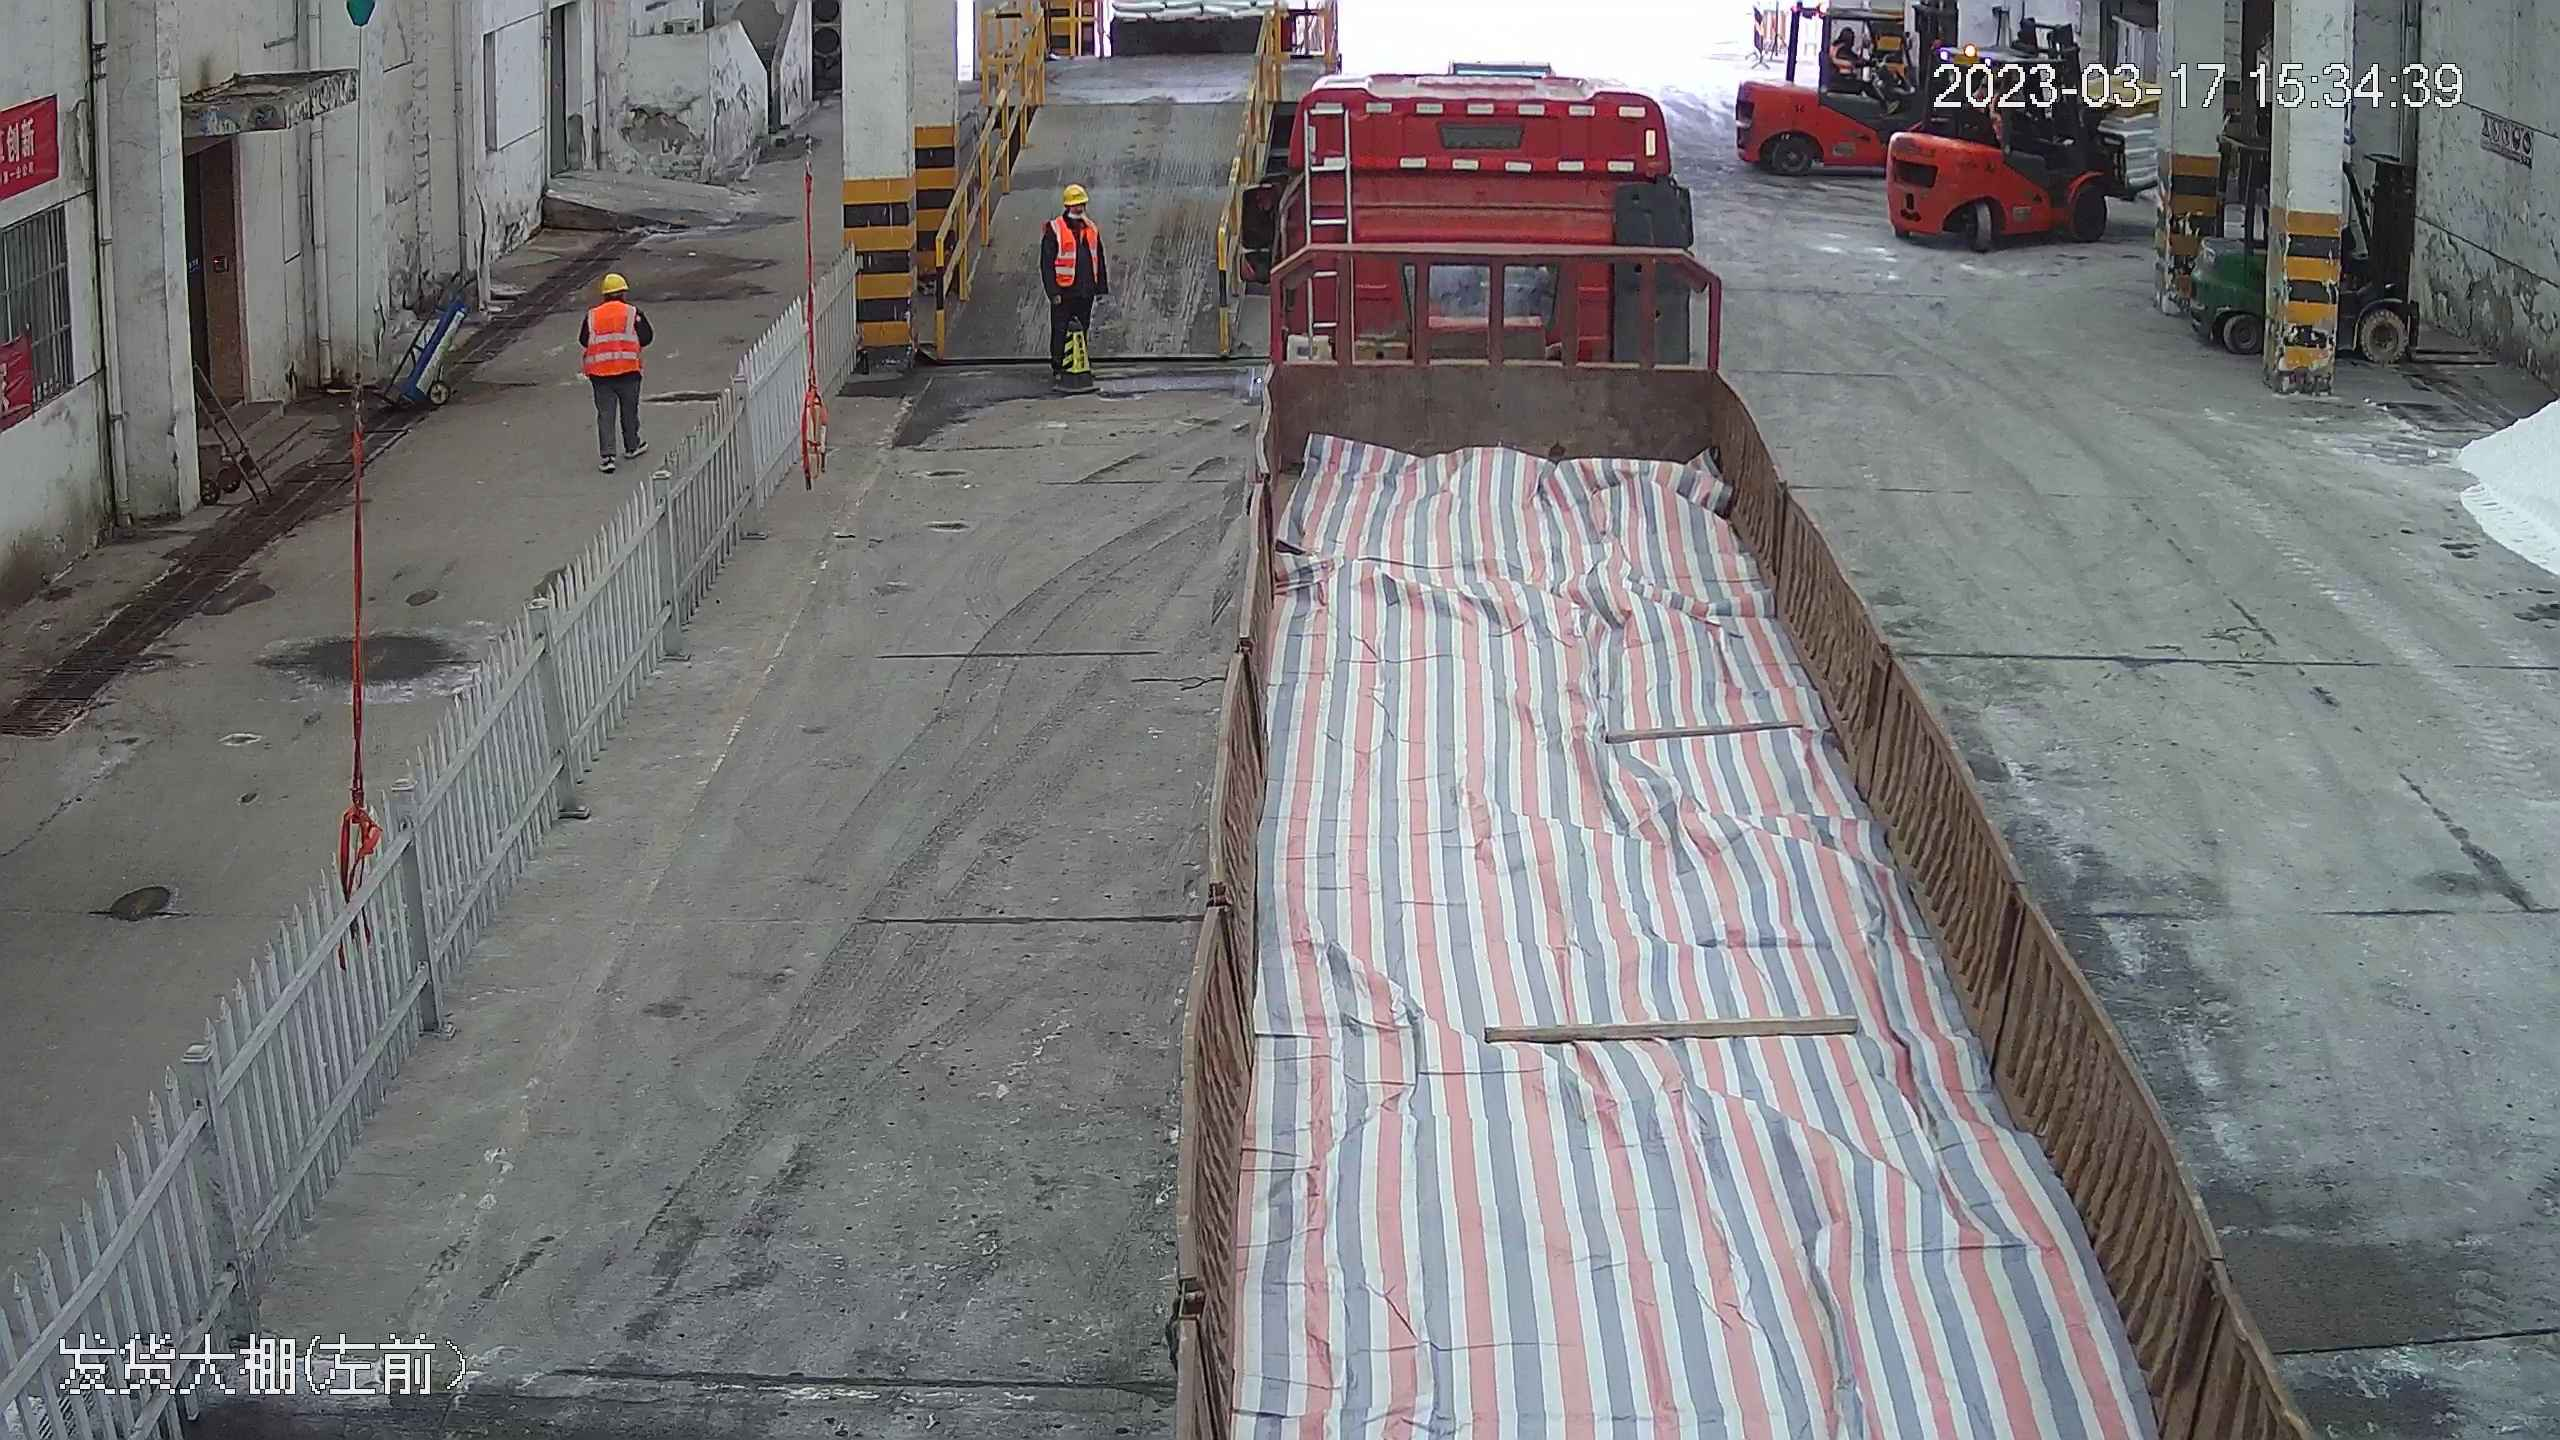head: (1041, 182, 1104, 249), (582, 268, 641, 334)
helmet: (1059, 180, 1093, 207), (593, 268, 629, 293)
people: (1032, 176, 1111, 386), (575, 262, 653, 463)
truck: (1162, 38, 2551, 1440)
